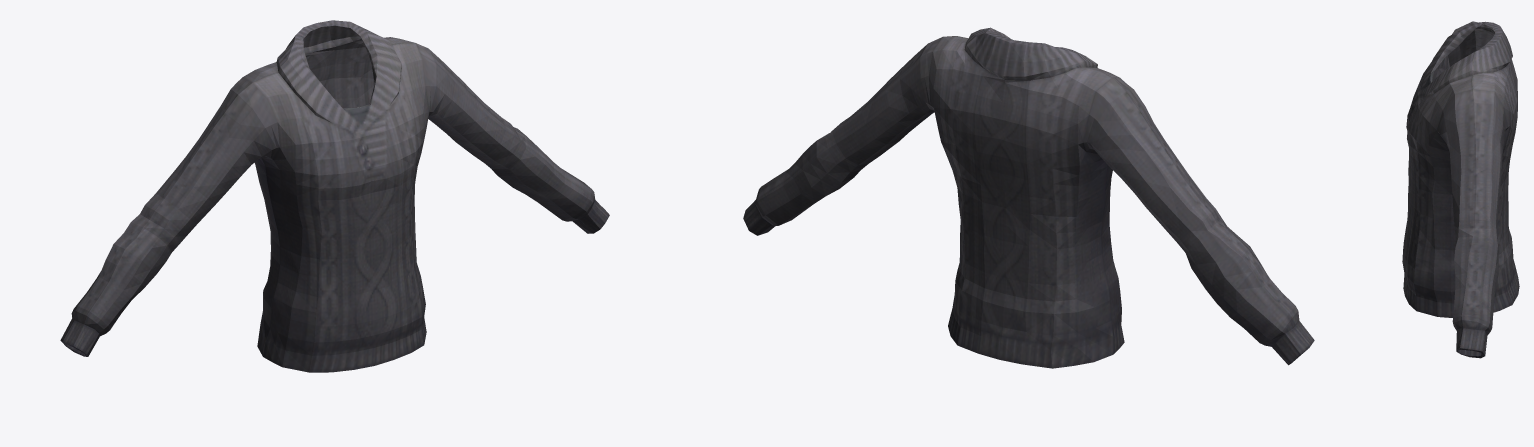
The model's file is Fisherman Sweater.obj.
3 renders of one model, left to right at view 1: azimuth 30°, elevation 25°; view 2: azimuth 150°, elevation 25°; view 3: azimuth 270°, elevation 25°, orthographic. The views are drawn at different scales.
Visible parts, largest first — view 1: s4studio_mesh_3_geom.006, s4studio_mesh_6_geom.000, s4studio_mesh_1_geom.004, s4studio_mesh_2_geom.005, s4studio_mesh_5_geom.000; view 2: s4studio_mesh_3_geom.006, s4studio_mesh_6_geom.000, s4studio_mesh_2_geom.005, s4studio_mesh_1_geom.004, s4studio_mesh_5_geom.000; view 3: s4studio_mesh_3_geom.006, s4studio_mesh_1_geom.004, s4studio_mesh_5_geom.000, s4studio_mesh_6_geom.000.
Boxes of the visible parts, box(x1,y1,x2,y2) form: s4studio_mesh_3_geom.006: box(106, 20, 554, 372); s4studio_mesh_6_geom.000: box(145, 106, 261, 235); s4studio_mesh_1_geom.004: box(428, 60, 514, 162); s4studio_mesh_2_geom.005: box(60, 260, 144, 356); s4studio_mesh_5_geom.000: box(513, 162, 609, 233); s4studio_mesh_3_geom.006: box(793, 27, 1259, 368); s4studio_mesh_6_geom.000: box(1099, 107, 1215, 242); s4studio_mesh_2_geom.005: box(1205, 262, 1314, 365); s4studio_mesh_1_geom.004: box(832, 56, 934, 164); s4studio_mesh_5_geom.000: box(743, 163, 834, 235); s4studio_mesh_3_geom.006: box(1402, 21, 1519, 317); s4studio_mesh_1_geom.004: box(1446, 121, 1504, 228); s4studio_mesh_5_geom.000: box(1452, 273, 1495, 358); s4studio_mesh_6_geom.000: box(1446, 31, 1493, 68).
Size of the model in its own units: 1.44 by 0.6937 by 0.2655.
1 material, 1 textured.
